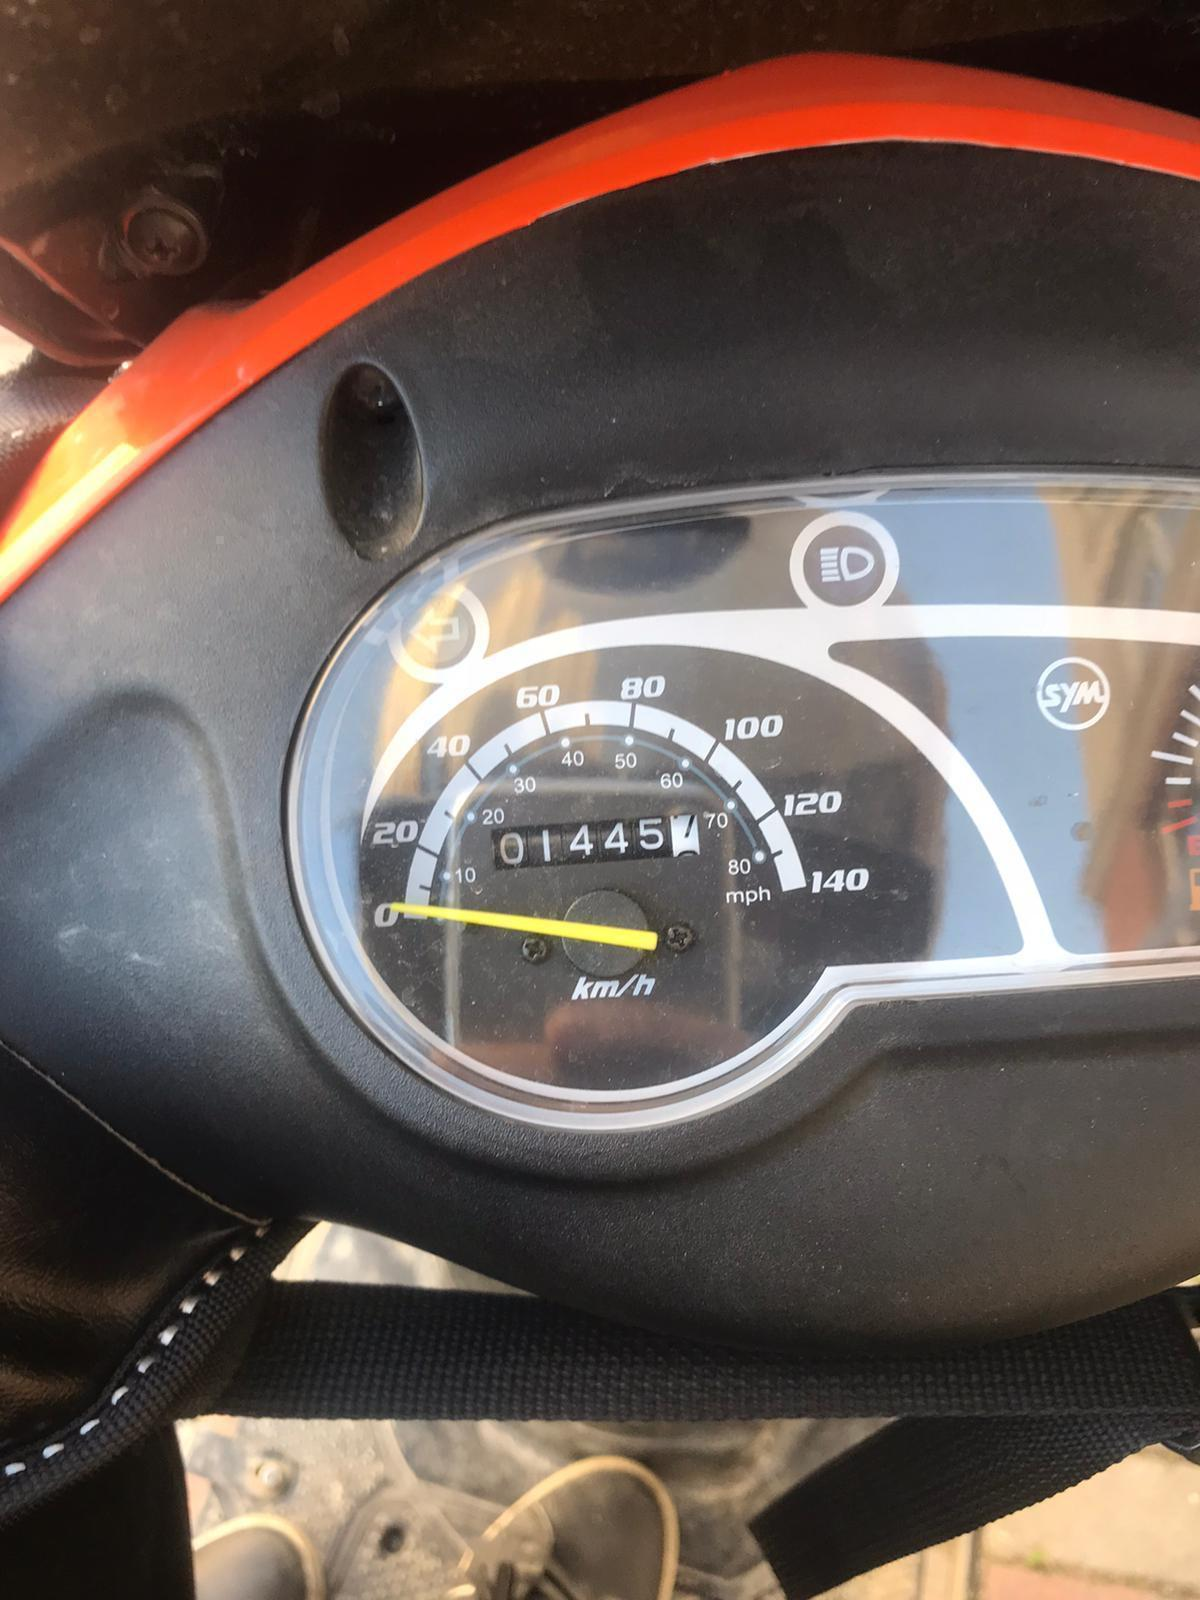0: (497, 829, 526, 866), (493, 806, 505, 824)
1: (537, 824, 555, 866)
4: (567, 821, 596, 858), (603, 821, 630, 855)
5: (637, 815, 666, 850)
7: (672, 809, 698, 842)
odometer: (490, 801, 708, 879)
